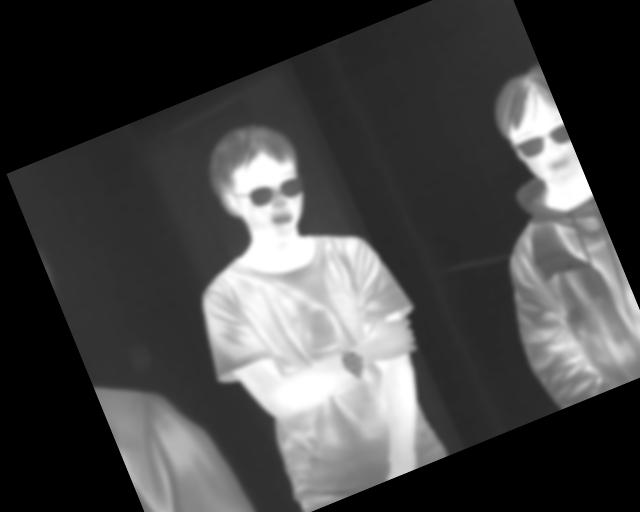face: (197, 110, 324, 254), (480, 61, 582, 195)
